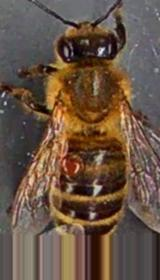varroa_mite: (58, 152, 90, 172)
